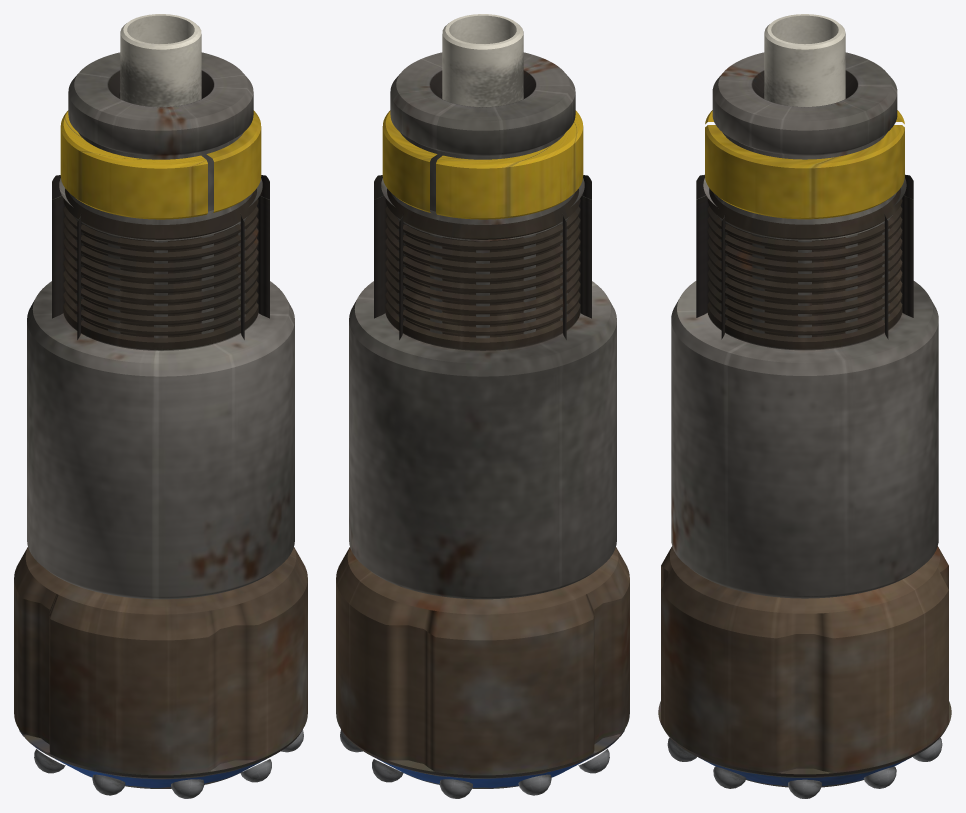
File: SM_Bit_6po_AvecChuck.glb
3 views of the same model, side by side, from view 1: azimuth 30°, elevation 25°; view 2: azimuth 150°, elevation 25°; view 3: azimuth 270°, elevation 25° (orthographic).
Parts seen in each view (by area): view 1: Bit_6po_AvecChuck_Chuck, Bit_6po_AvecChuck_Bit, Bit_6po_AvecChuck_Anneaux, Bit_6po_AvecChuck_TubeDePied, Bit_6po_AvecChuck_Boutons; view 2: Bit_6po_AvecChuck_Chuck, Bit_6po_AvecChuck_Bit, Bit_6po_AvecChuck_Anneaux, Bit_6po_AvecChuck_TubeDePied, Bit_6po_AvecChuck_Boutons; view 3: Bit_6po_AvecChuck_Chuck, Bit_6po_AvecChuck_Bit, Bit_6po_AvecChuck_Anneaux, Bit_6po_AvecChuck_TubeDePied, Bit_6po_AvecChuck_Boutons.
Boxes of the visible parts, x1,y1,x2,y2 form: Bit_6po_AvecChuck_Chuck: (27,175,294,599); Bit_6po_AvecChuck_Bit: (14,52,307,788); Bit_6po_AvecChuck_Anneaux: (60,110,261,219); Bit_6po_AvecChuck_TubeDePied: (120,14,201,106); Bit_6po_AvecChuck_Boutons: (19,730,303,798); Bit_6po_AvecChuck_Chuck: (349,175,616,599); Bit_6po_AvecChuck_Bit: (336,52,629,788); Bit_6po_AvecChuck_Anneaux: (382,110,583,219); Bit_6po_AvecChuck_TubeDePied: (442,14,523,106); Bit_6po_AvecChuck_Boutons: (340,730,624,798); Bit_6po_AvecChuck_Chuck: (671,174,938,598); Bit_6po_AvecChuck_Bit: (658,52,951,787); Bit_6po_AvecChuck_Anneaux: (705,110,904,219); Bit_6po_AvecChuck_TubeDePied: (764,14,845,106); Bit_6po_AvecChuck_Boutons: (667,737,942,798).
Size of the model in its own units: 0.1524 by 0.4162 by 0.1524.
5 materials, 5 textured.
